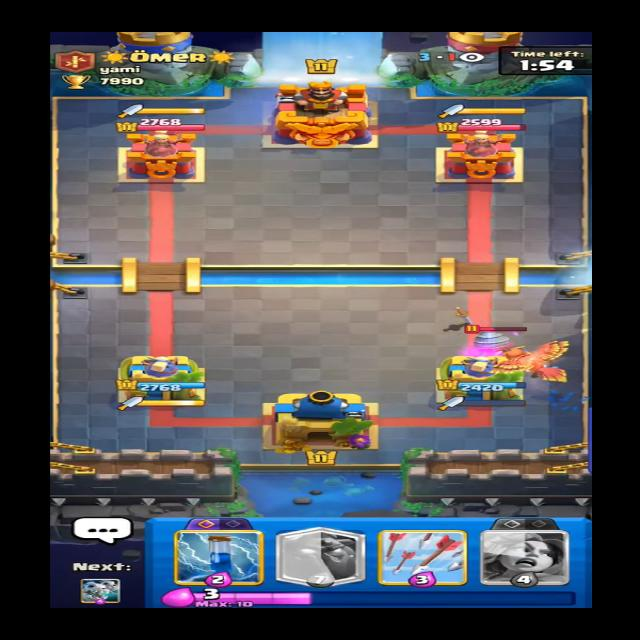goblin-drill: (461, 306, 530, 366)
